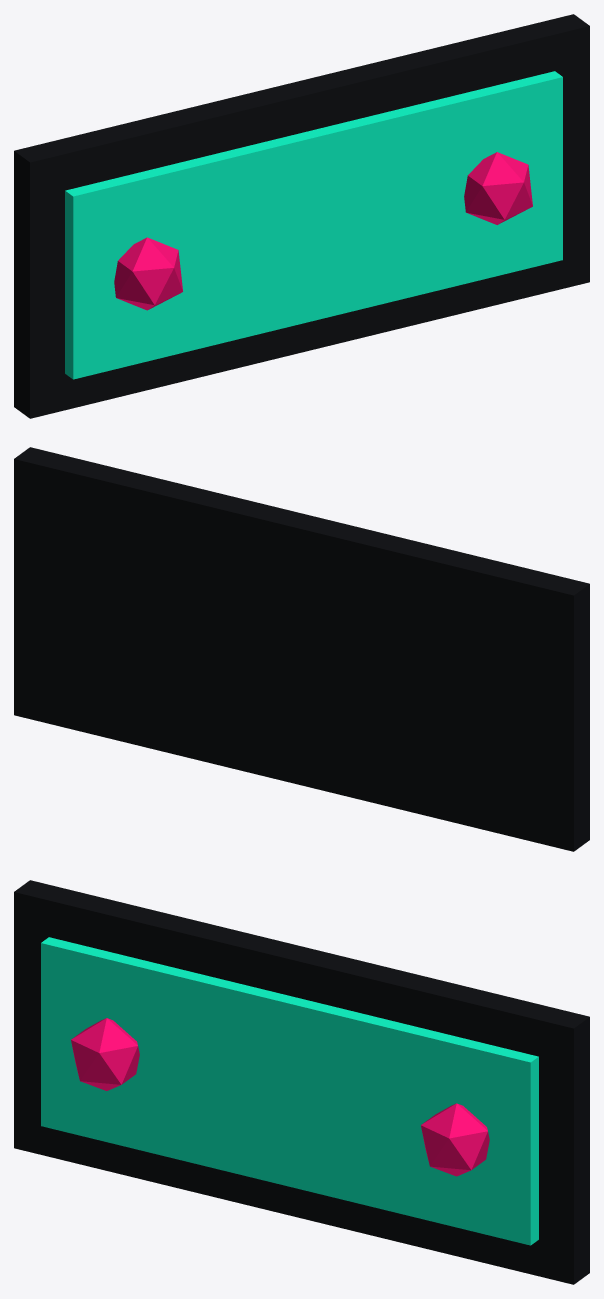
The model's file is neon_sign_strike.obj.
3 views of the same model, one above another, from view 1: azimuth 30°, elevation 25°; view 2: azimuth 150°, elevation 25°; view 3: azimuth 330°, elevation 25° (orthographic).
Parts seen in each view (by area): view 1: neon_sign_strike; view 2: neon_sign_strike; view 3: neon_sign_strike.
Part boxes in pixels (x1,y1,x2,y2): neon_sign_strike: [14, 14, 589, 418]; neon_sign_strike: [14, 447, 589, 851]; neon_sign_strike: [14, 880, 589, 1284].
Bounding box in the file's own units: 1.6 × 0.7 × 0.2251.
